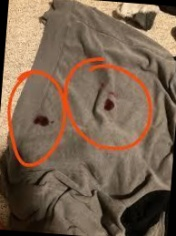ink: (34, 114, 51, 127), (105, 98, 116, 111)
